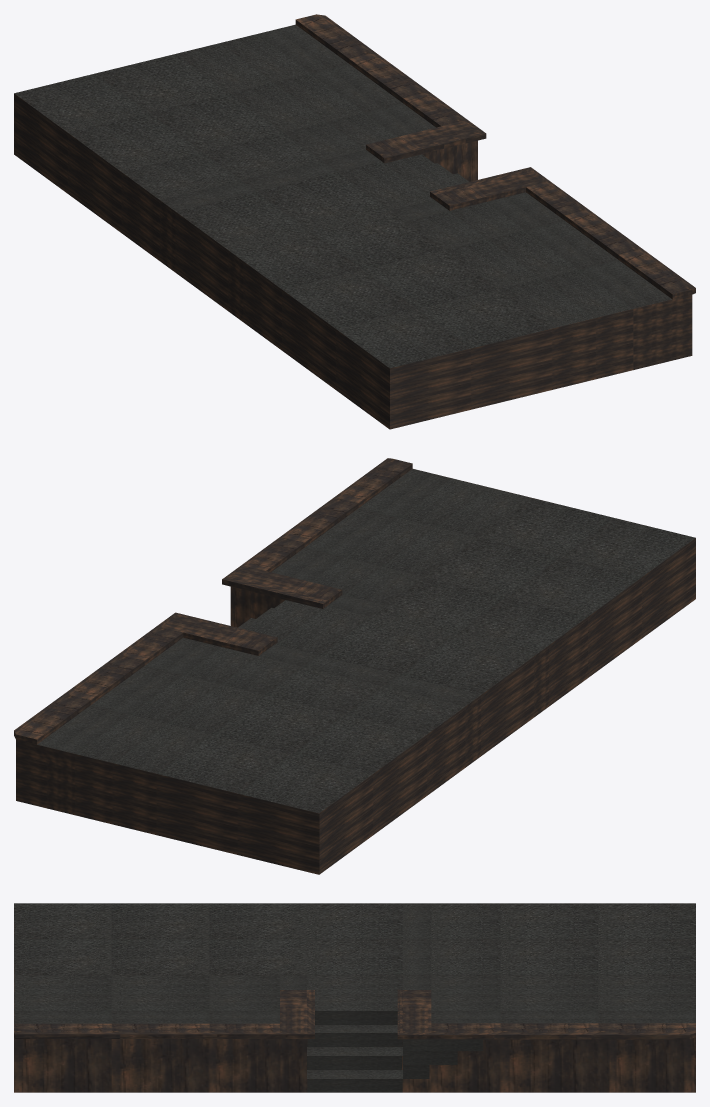
File: SB_Floor_2.fbx
3 renders of one model, top to bottom at view 1: azimuth 30°, elevation 25°; view 2: azimuth 150°, elevation 25°; view 3: azimuth 270°, elevation 25°, orthographic. The views are drawn at different scales.
Parts seen in each view (by area): view 1: SB_Deck; view 2: SB_Deck; view 3: SB_Deck.
Part boxes in pixels (left/top/right/bottom): SB_Deck: left=14, top=14, right=695, bottom=429; SB_Deck: left=14, top=458, right=695, bottom=874; SB_Deck: left=14, top=903, right=695, bottom=1092.
Size of the model in its own units: 844 by 174 by 1784.
